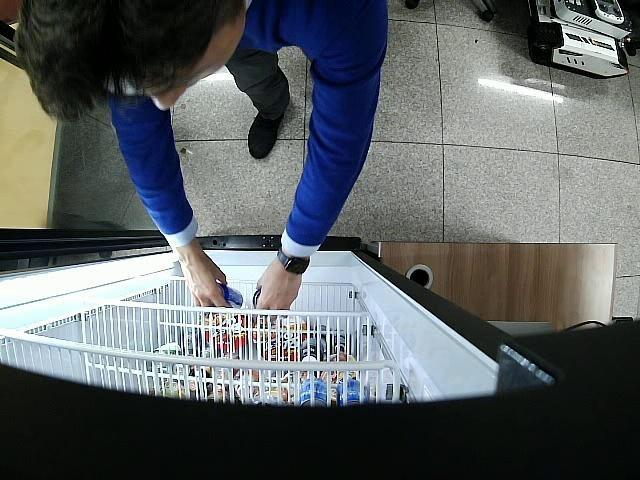13_pocariSweat: (217, 284, 243, 308)
